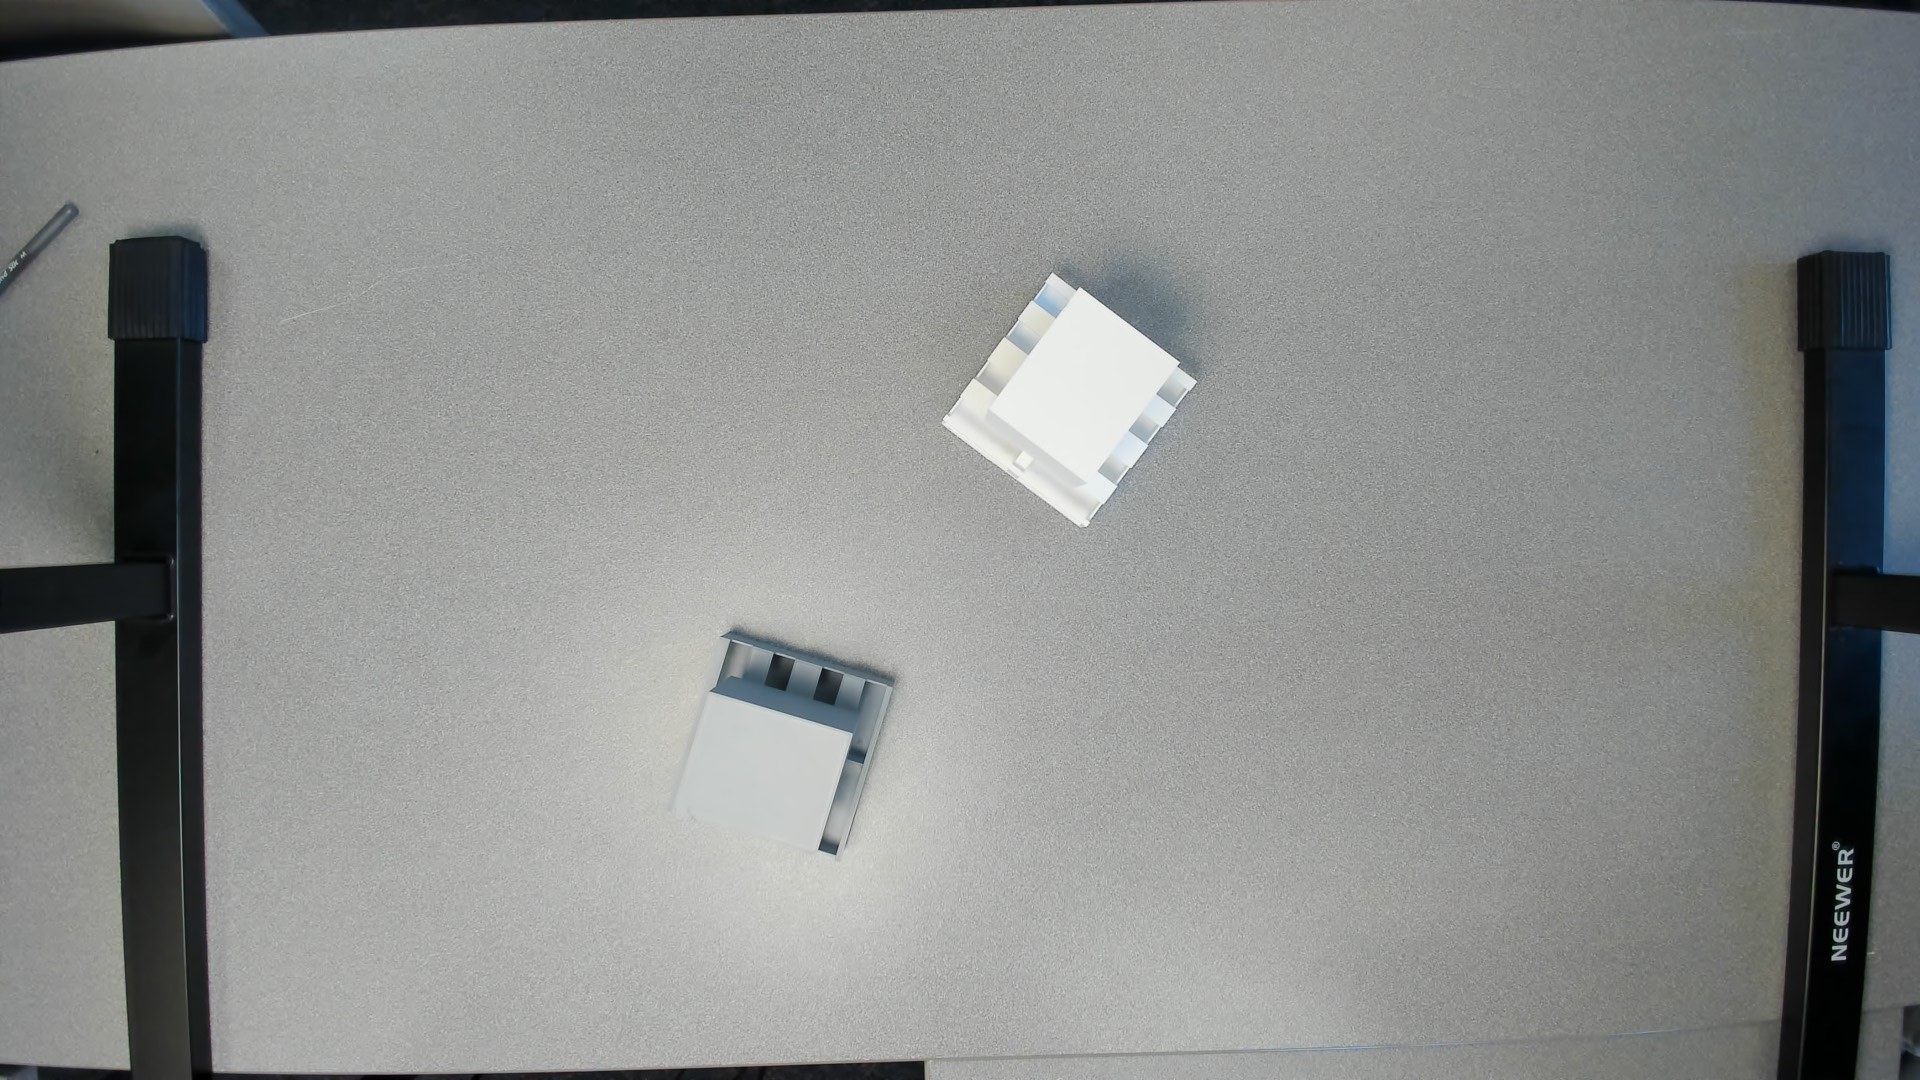grey pallet: (655, 612, 909, 876)
white pallet: (934, 266, 1211, 543)
